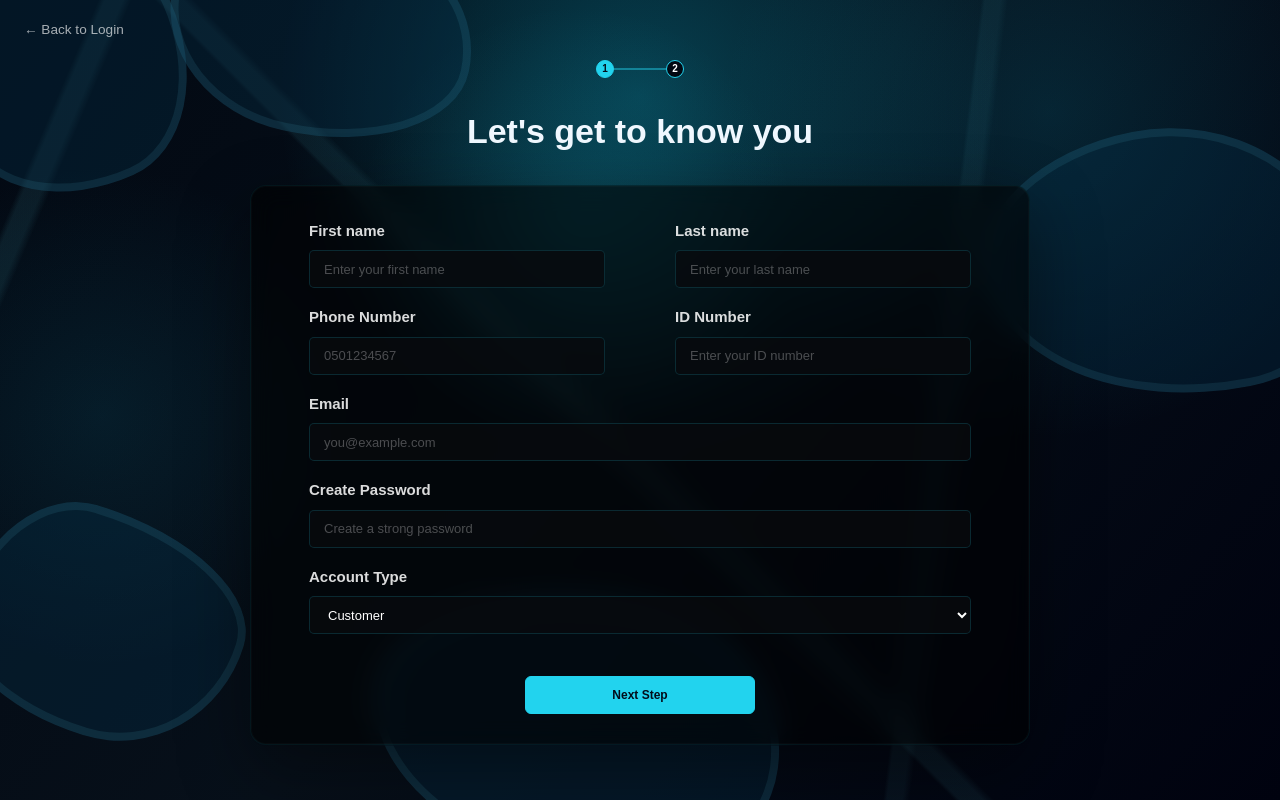
it: RegisterPage › shows validation messages when step one is incomplete
Step 1. Click the button "Next Step" → [640, 695], box [525, 676, 755, 714]
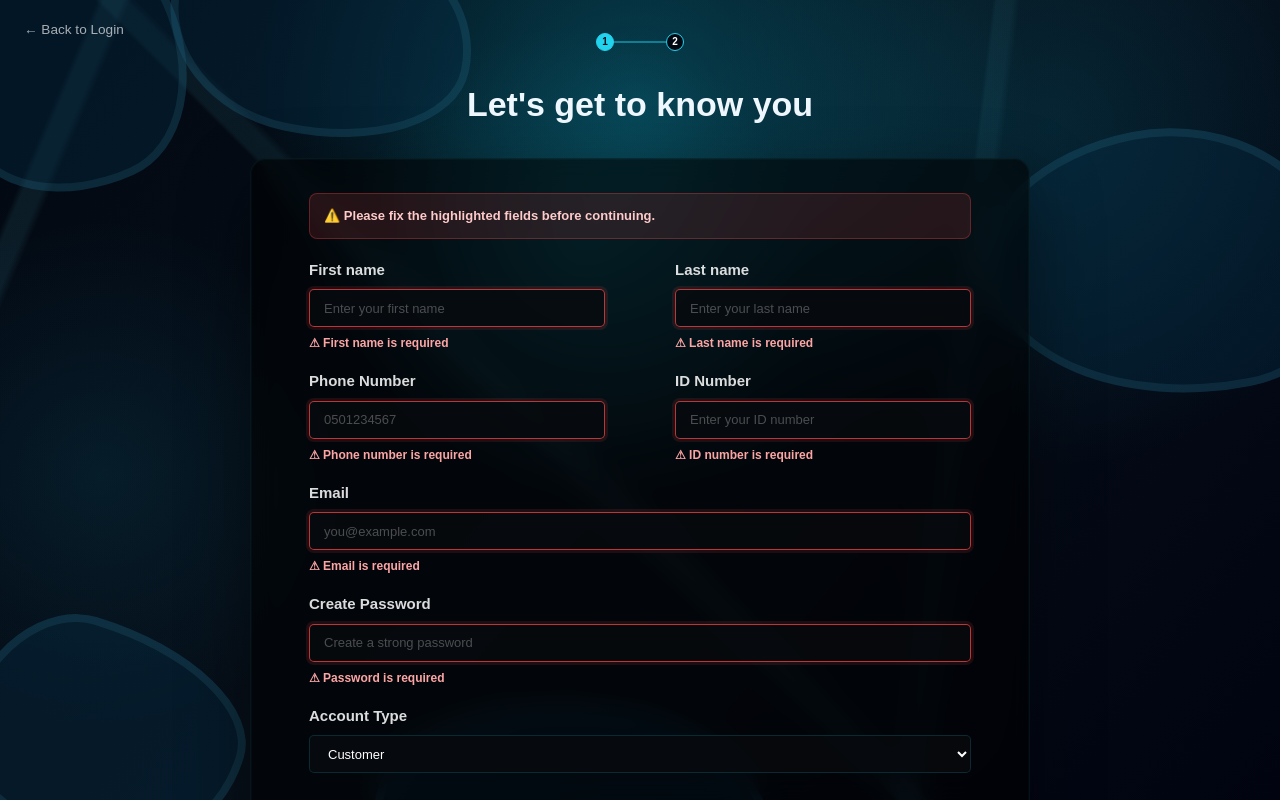
Expected: the text "⚠️ Please fix the highlighted fields before continuing." is shown, [309, 193, 971, 238]
Expected: the text "⚠ First name is required" is shown, [309, 336, 448, 350]
Expected: the text "⚠ Email is required" is shown, [309, 559, 420, 573]
